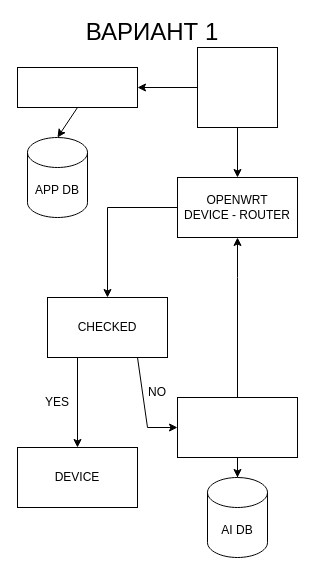
The diagram is 315 pixels wide and 575 high, and some of its shapes have lost their labels. Each missing label, with the centre of its shape:
AI CLUSTER: the point at 237,427
APP SERVER/DBSM: the point at 77,87
OUTSIDE NETWORK APP: the point at 237,87
